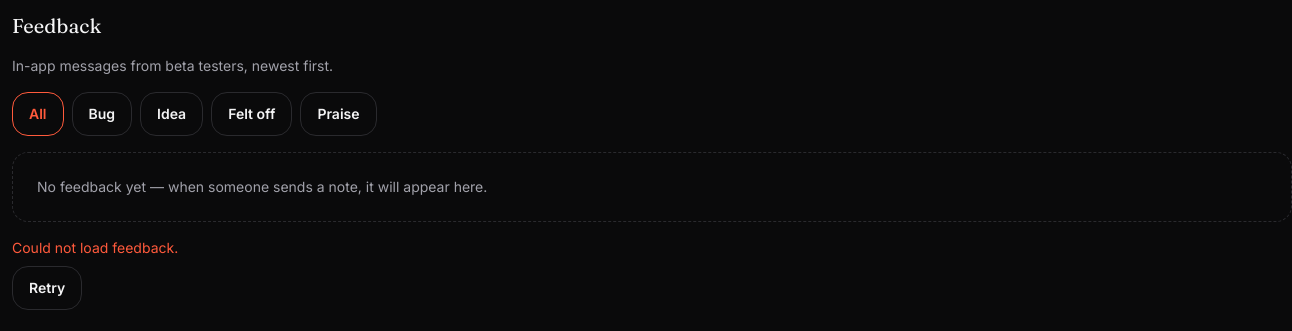
FounderFeedbackTab › shows error with Retry
Check: the message shows "Could not load feedback", box [12,239,178,256]
Click the button with test id "founder-feedback-retry": coordinates (47, 288) [12,266,82,310]
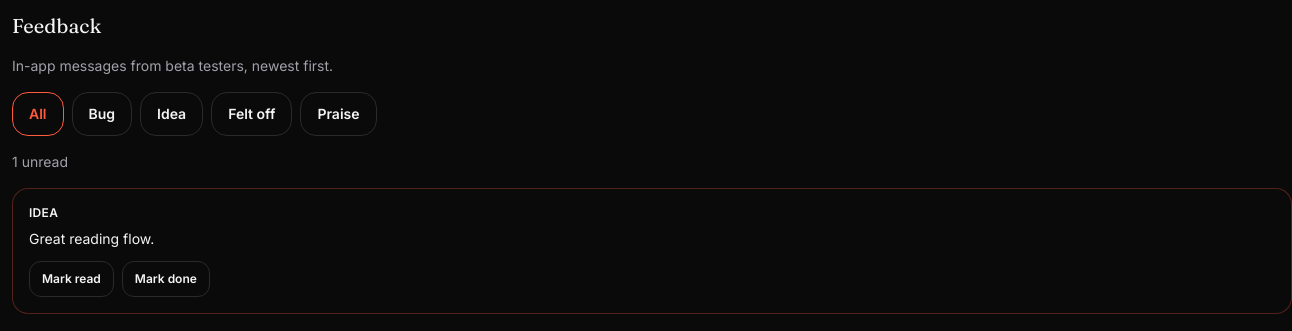
Check: the text "Great reading flow." is shown, box [29,230,154,247]
